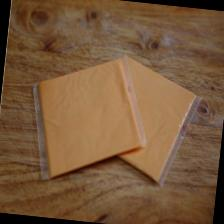cheese: (22, 44, 156, 192), (101, 51, 206, 192)
